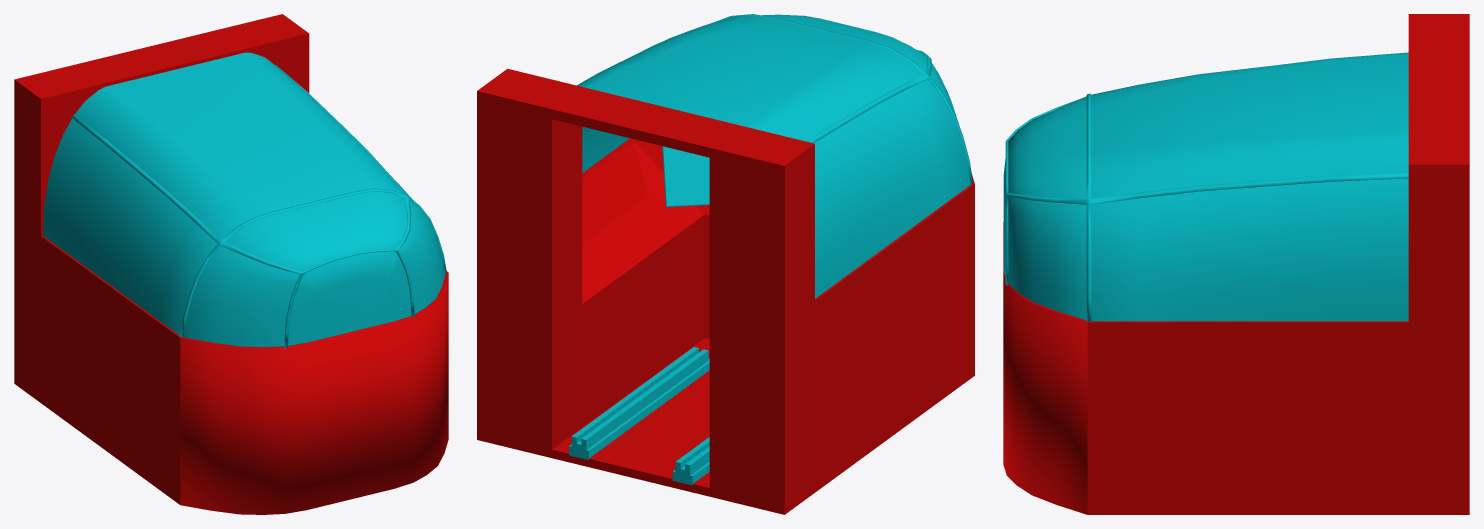
3 renders of one model, left to right at view 1: azimuth 30°, elevation 25°; view 2: azimuth 150°, elevation 25°; view 3: azimuth 270°, elevation 25°, orthographic. The views are drawn at different scales.
Parts seen in each view (by area): view 1: Cube.005, Cylinder, Cylinder.005; view 2: Cube.005, Cylinder, Cube.004, monitor, Cylinder.005; view 3: Cube.005, Cylinder, Cylinder.005.
Boxes of the visible parts, <box> form: Cube.005: <box>14,14,448,514</box>; Cylinder: <box>43,52,445,347</box>; Cylinder.005: <box>72,65,446,348</box>; Cube.005: <box>477,68,974,514</box>; Cylinder: <box>577,14,970,298</box>; Cube.004: <box>569,347,709,485</box>; monitor: <box>662,146,709,206</box>; Cylinder.005: <box>639,14,972,184</box>; Cube.005: <box>1003,14,1469,514</box>; Cylinder: <box>1003,52,1408,321</box>; Cylinder.005: <box>1005,93,1408,321</box>.
Bounding box in the file's own units: 1.53 × 1.66 × 2.
